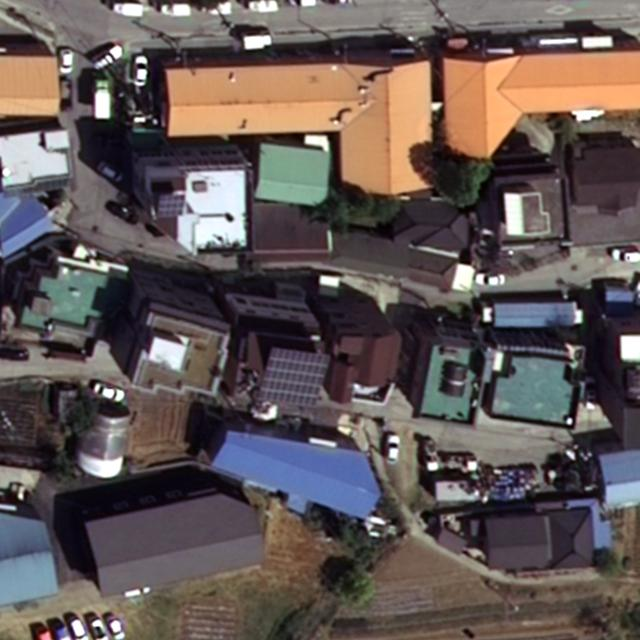solarpanel: (252, 345, 335, 416), (155, 192, 186, 217)
